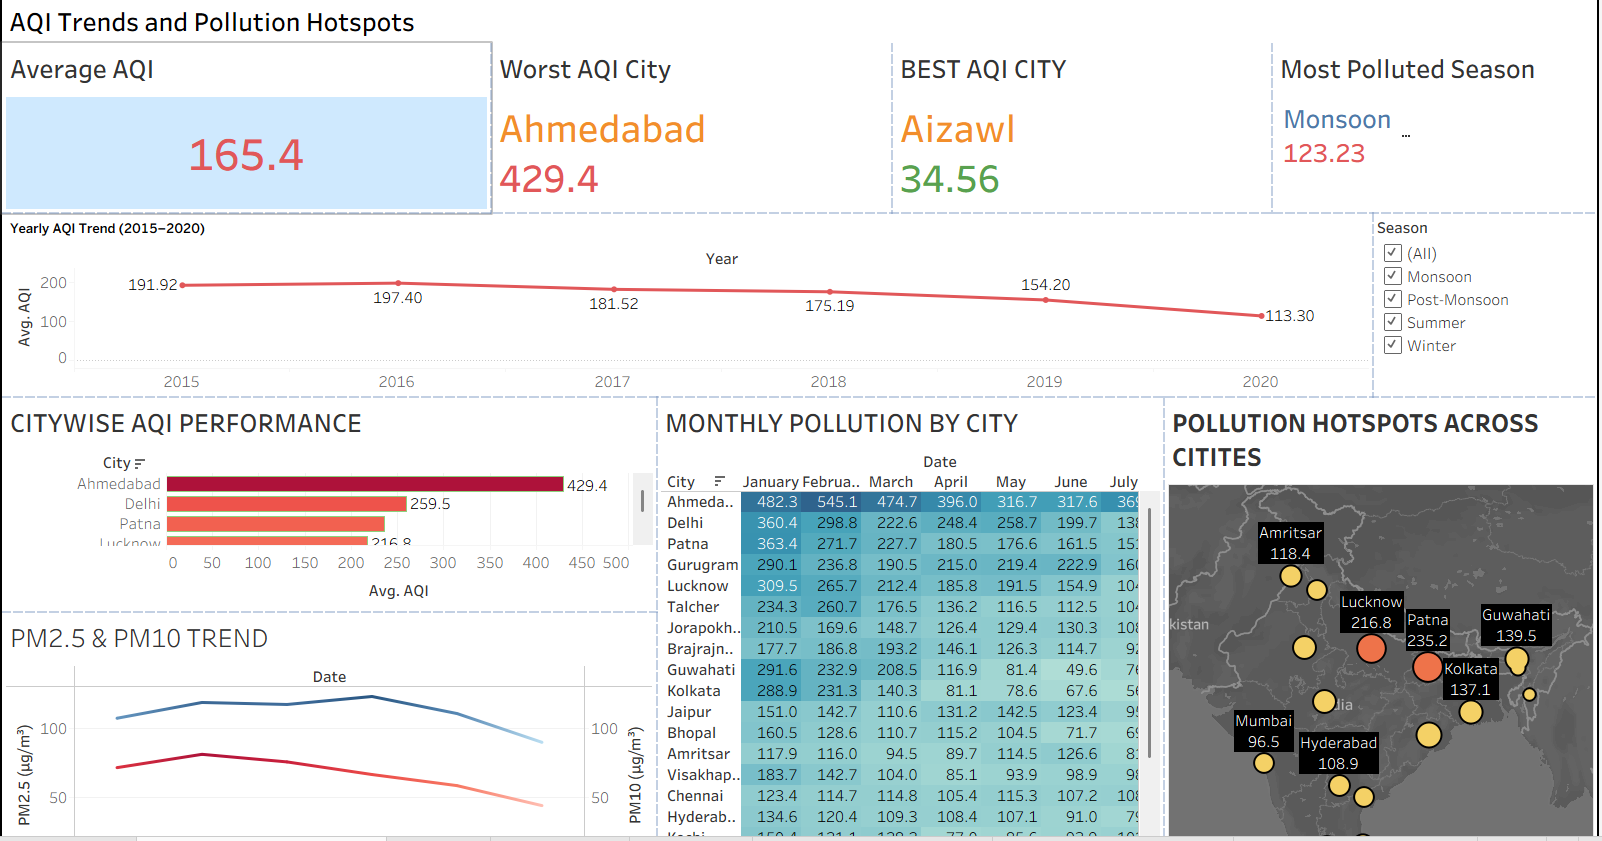

What the dashboard file says about the page in this screenshot:
{"tool":"tableau","page":{"name":"AQI Trends and Pollution Hotspots","canvas":[1300,900],"ordinal":0},"visuals":[{"type":"title","box":[2,2,1296,43]},{"type":"worksheet","title":"Average AQI","mark":"Text","box":[2,45,397.5,170]},{"type":"worksheet","title":"WORST AQI CITY","mark":"Text","box":[399.5,45,325.5,170]},{"type":"worksheet","title":"BEST AQI CITY","mark":"Text","box":[725,45,308,170]},{"type":"worksheet","title":"Most Polluted Season","mark":"Text","box":[1033,45,265,170]},{"type":"worksheet","title":"Yearly AQI Trend (2015–2020)","mark":"Line","rows":["AQI"],"cols":["year"],"box":[2,215,1113.4,184]},{"type":"filter","title":"Yearly AQI Trend (2015–2020)","param":"[federated.1adwkug1iy1syl148kz5b1e7ju8i].[none:season:nk]","box":[1115.4,215,182.6,184]},{"type":"worksheet","title":"CITYWISE AQI PERFORMANCE ","mark":"Bar","rows":["City"],"cols":["AQI"],"box":[2,399,532,215]},{"type":"worksheet","title":"MONTHLY POLLUTION BY CITY","mark":"Square","rows":["City"],"cols":["Date"],"box":[534,399,412,499]},{"type":"worksheet","title":"POLLUTION HOTSPOTS","mark":"Circle","box":[946,399,352,499]},{"type":"worksheet","title":"PM2.5 & PM10 TREND","mark":"Automatic","rows":["PM2.5","PM10"],"cols":["Date"],"box":[2,614,532,284]}]}

Visuals, with their boxes on the page's 1300x900 design canvas (x1, y1, x2, y2). These are canvas units, not pixel positions in the 1602x841 screenshot, which may show the page scaled, cropped or inside an application window:
title: box=[2, 2, 1298, 45]
"Average AQI" worksheet (Text marks): box=[2, 45, 400, 215]
"WORST AQI CITY" worksheet (Text marks): box=[400, 45, 725, 215]
"BEST AQI CITY" worksheet (Text marks): box=[725, 45, 1033, 215]
"Most Polluted Season" worksheet (Text marks): box=[1033, 45, 1298, 215]
"Yearly AQI Trend (2015–2020)" worksheet (Line marks): box=[2, 215, 1115, 399]
"Yearly AQI Trend (2015–2020)" filter: box=[1115, 215, 1298, 399]
"CITYWISE AQI PERFORMANCE " worksheet (Bar marks): box=[2, 399, 534, 614]
"MONTHLY POLLUTION BY CITY" worksheet (Square marks): box=[534, 399, 946, 898]
"POLLUTION HOTSPOTS" worksheet (Circle marks): box=[946, 399, 1298, 898]
"PM2.5 & PM10 TREND" worksheet: box=[2, 614, 534, 898]
